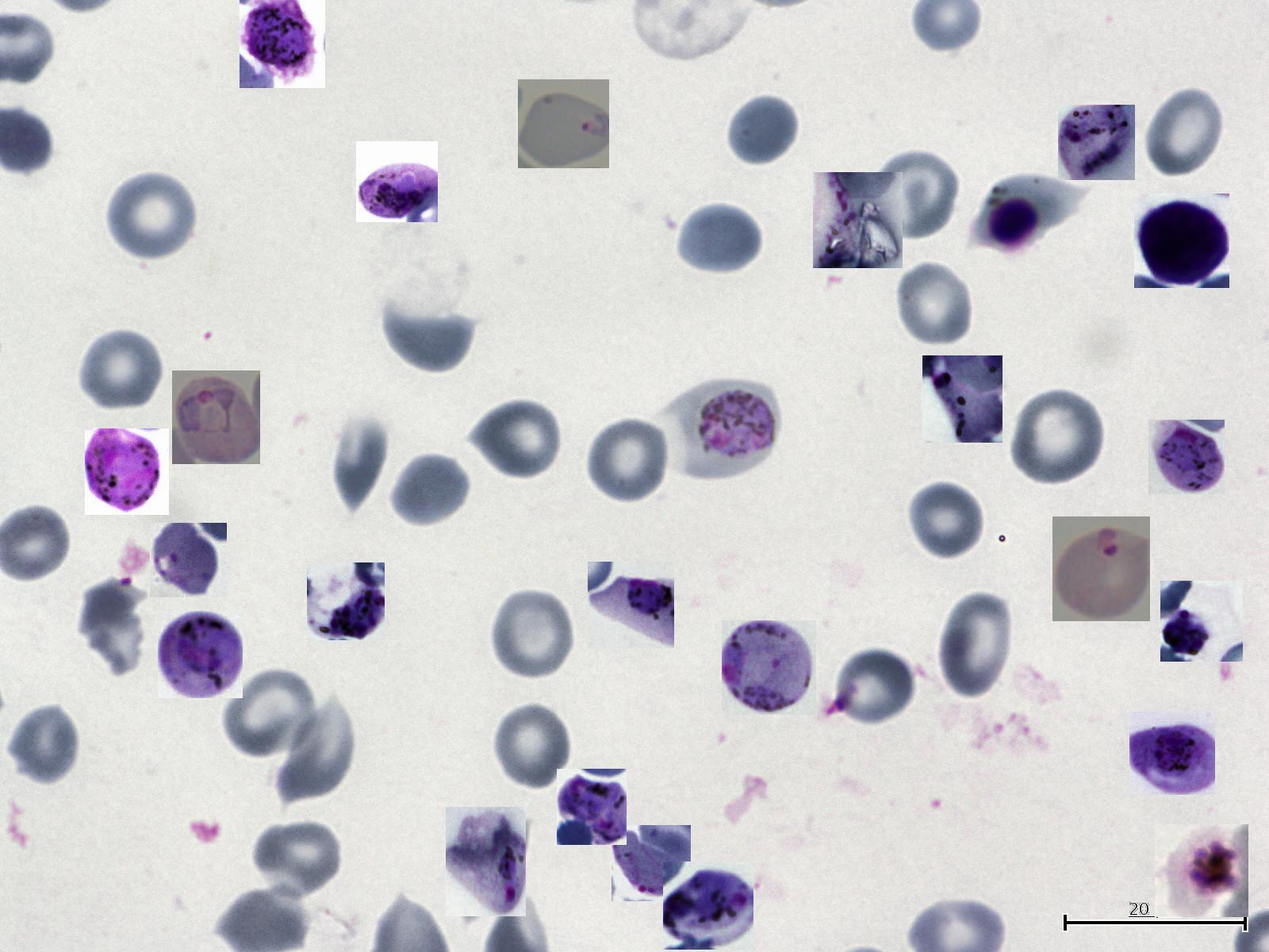Infected: (671, 377, 784, 479), (1052, 516, 1150, 621), (1134, 194, 1229, 289), (723, 621, 816, 716), (446, 807, 526, 916), (1155, 824, 1248, 917), (813, 172, 903, 268), (172, 370, 260, 464), (518, 79, 609, 168), (973, 177, 1079, 252), (663, 862, 753, 950), (240, 0, 325, 88), (588, 562, 674, 648), (158, 611, 243, 698), (85, 428, 169, 515), (1129, 712, 1215, 795), (922, 356, 1003, 443), (1160, 581, 1243, 662), (356, 141, 438, 222), (307, 563, 385, 641), (611, 825, 691, 901), (1058, 105, 1135, 180), (150, 523, 227, 597), (1148, 420, 1225, 494), (557, 769, 627, 845)
Uninfected: (1008, 386, 1106, 488), (219, 664, 321, 760), (271, 703, 357, 807), (937, 591, 1018, 701), (105, 171, 197, 263), (868, 147, 958, 241), (488, 588, 577, 682), (470, 396, 565, 481), (248, 816, 343, 901), (1142, 85, 1225, 179), (585, 415, 670, 504), (77, 578, 152, 678), (77, 327, 164, 413), (893, 259, 976, 349), (491, 701, 573, 792), (827, 646, 917, 727), (673, 202, 763, 277), (905, 479, 986, 562), (387, 451, 472, 529), (383, 302, 477, 371), (6, 704, 82, 787), (723, 92, 799, 171), (332, 422, 385, 512)
